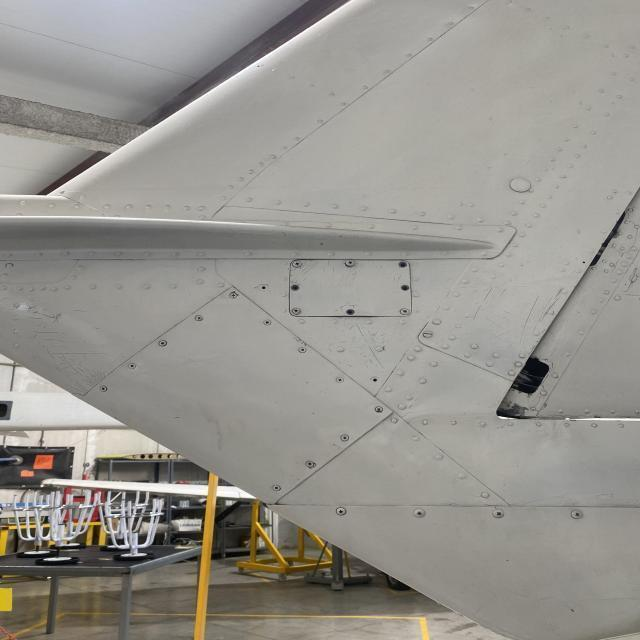Crack: (619, 282, 639, 292), (610, 258, 622, 274), (616, 293, 640, 297)
Missing_Fastener: (400, 284, 410, 292), (346, 308, 356, 316), (398, 262, 408, 268), (290, 285, 300, 291), (261, 286, 266, 290), (373, 378, 377, 382)
